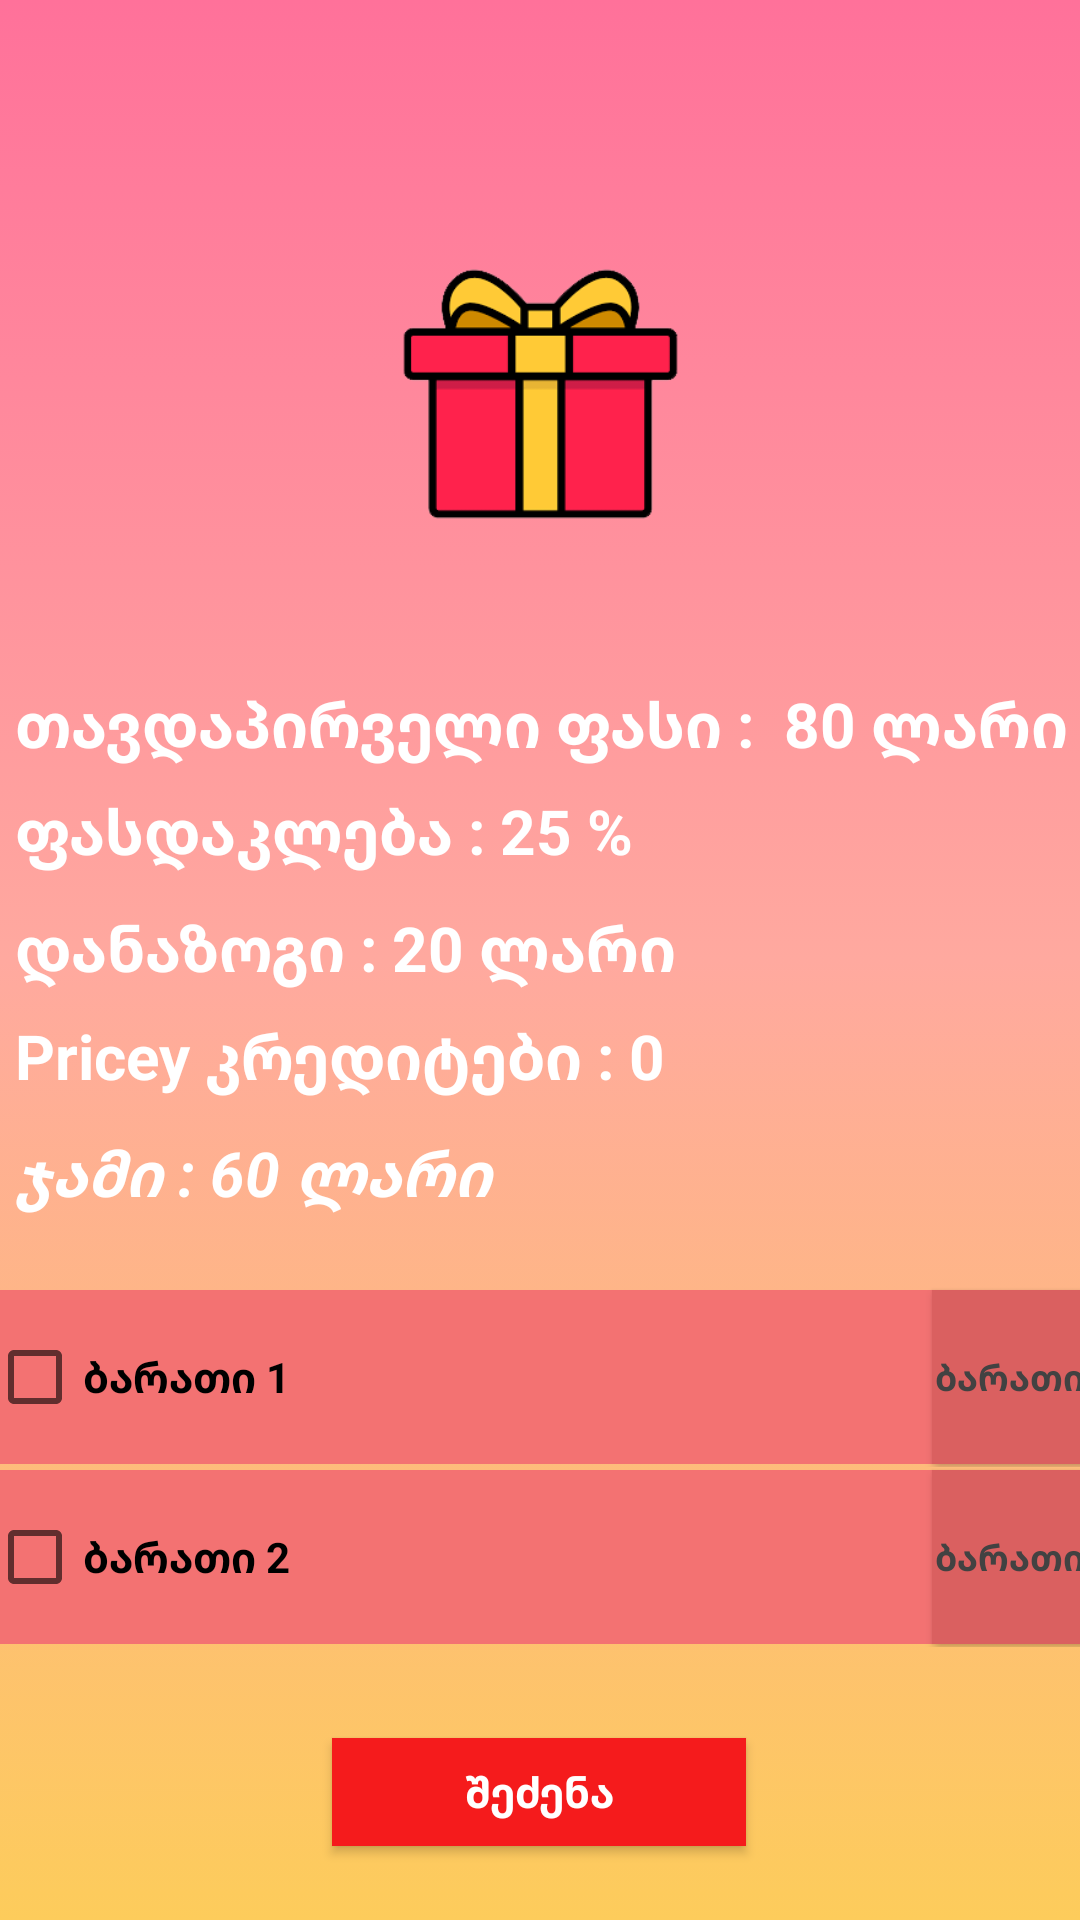

Named icons in this screenshot (1080px x 1920px) and their centers, [x,y]:
gift: [540,394]
